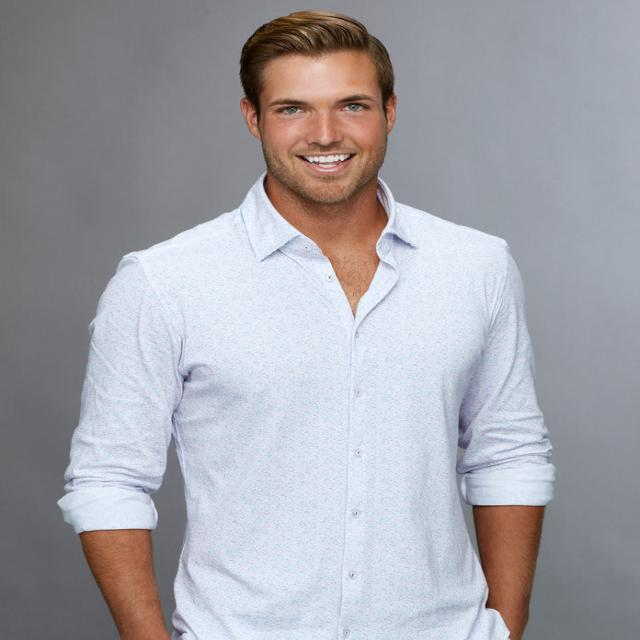mobile_phonerotation: (57, 10, 556, 638)
